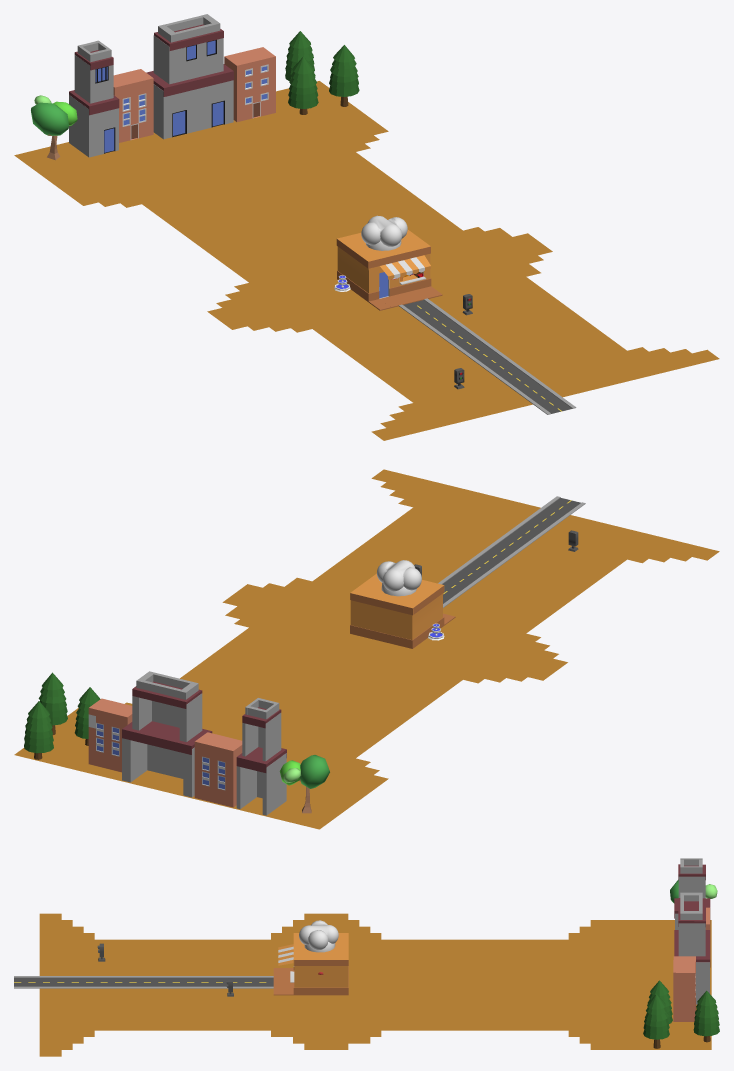
The model's file is RestauranteMenu.fbx.
3 renders of one model, top to bottom at view 1: azimuth 30°, elevation 25°; view 2: azimuth 150°, elevation 25°; view 3: azimuth 270°, elevation 25°, orthographic. The views are drawn at different scales.
Visible parts, largest first — view 1: Plano central, Prédios.004, Restaurante, Prédios.002, Rua Reta, Prédios.005, Prédios.003, Folhas 1, Chapeu, Arvore M.002, Arvore M.001, Arvore M.003; view 2: Plano central, Prédios.004, Restaurante, Prédios.002, Rua Reta, Prédios.003, Prédios.005, Chapeu, Arvore M.003, Folhas 1, Arvore M.002, Arvore M.001; view 3: Plano central, Restaurante, Rua Reta, Prédios.004, Prédios.005, Prédios.002, Arvore M.002, Chapeu, Arvore M.003, Arvore M.001.
Part boxes in pixels (x1,y1,x2,y2): Plano central: (14, 81, 719, 440); Prédios.004: (146, 14, 233, 139); Restaurante: (336, 229, 442, 310); Prédios.002: (69, 40, 119, 157); Rua Reta: (398, 298, 576, 414); Prédios.005: (224, 47, 275, 121); Prédios.003: (113, 69, 153, 142); Folhas 1: (31, 95, 77, 135); Chapeu: (361, 215, 407, 250); Arvore M.002: (329, 45, 359, 106); Arvore M.001: (288, 56, 318, 114); Arvore M.003: (285, 31, 315, 81); Plano central: (14, 469, 719, 829); Prédios.004: (122, 671, 212, 797); Restaurante: (350, 573, 455, 648); Prédios.002: (236, 698, 286, 815); Rua Reta: (438, 496, 585, 607); Prédios.003: (194, 732, 242, 807); Prédios.005: (88, 698, 132, 772); Chapeu: (376, 560, 421, 596); Arvore M.003: (24, 701, 53, 759); Folhas 1: (279, 755, 329, 788); Arvore M.002: (38, 672, 67, 735); Arvore M.001: (74, 687, 100, 745); Plano central: (39, 913, 711, 1056); Restaurante: (273, 933, 348, 995); Rua Reta: (14, 976, 273, 988); Prédios.004: (674, 892, 710, 1004); Prédios.005: (673, 956, 695, 1021); Prédios.002: (674, 858, 710, 929); Arvore M.002: (643, 994, 669, 1048); Chapeu: (299, 920, 338, 952); Arvore M.003: (693, 990, 719, 1042); Arvore M.001: (647, 980, 672, 1023).
Bounding box in the file's own units: 4047 × 1148 × 8436.
